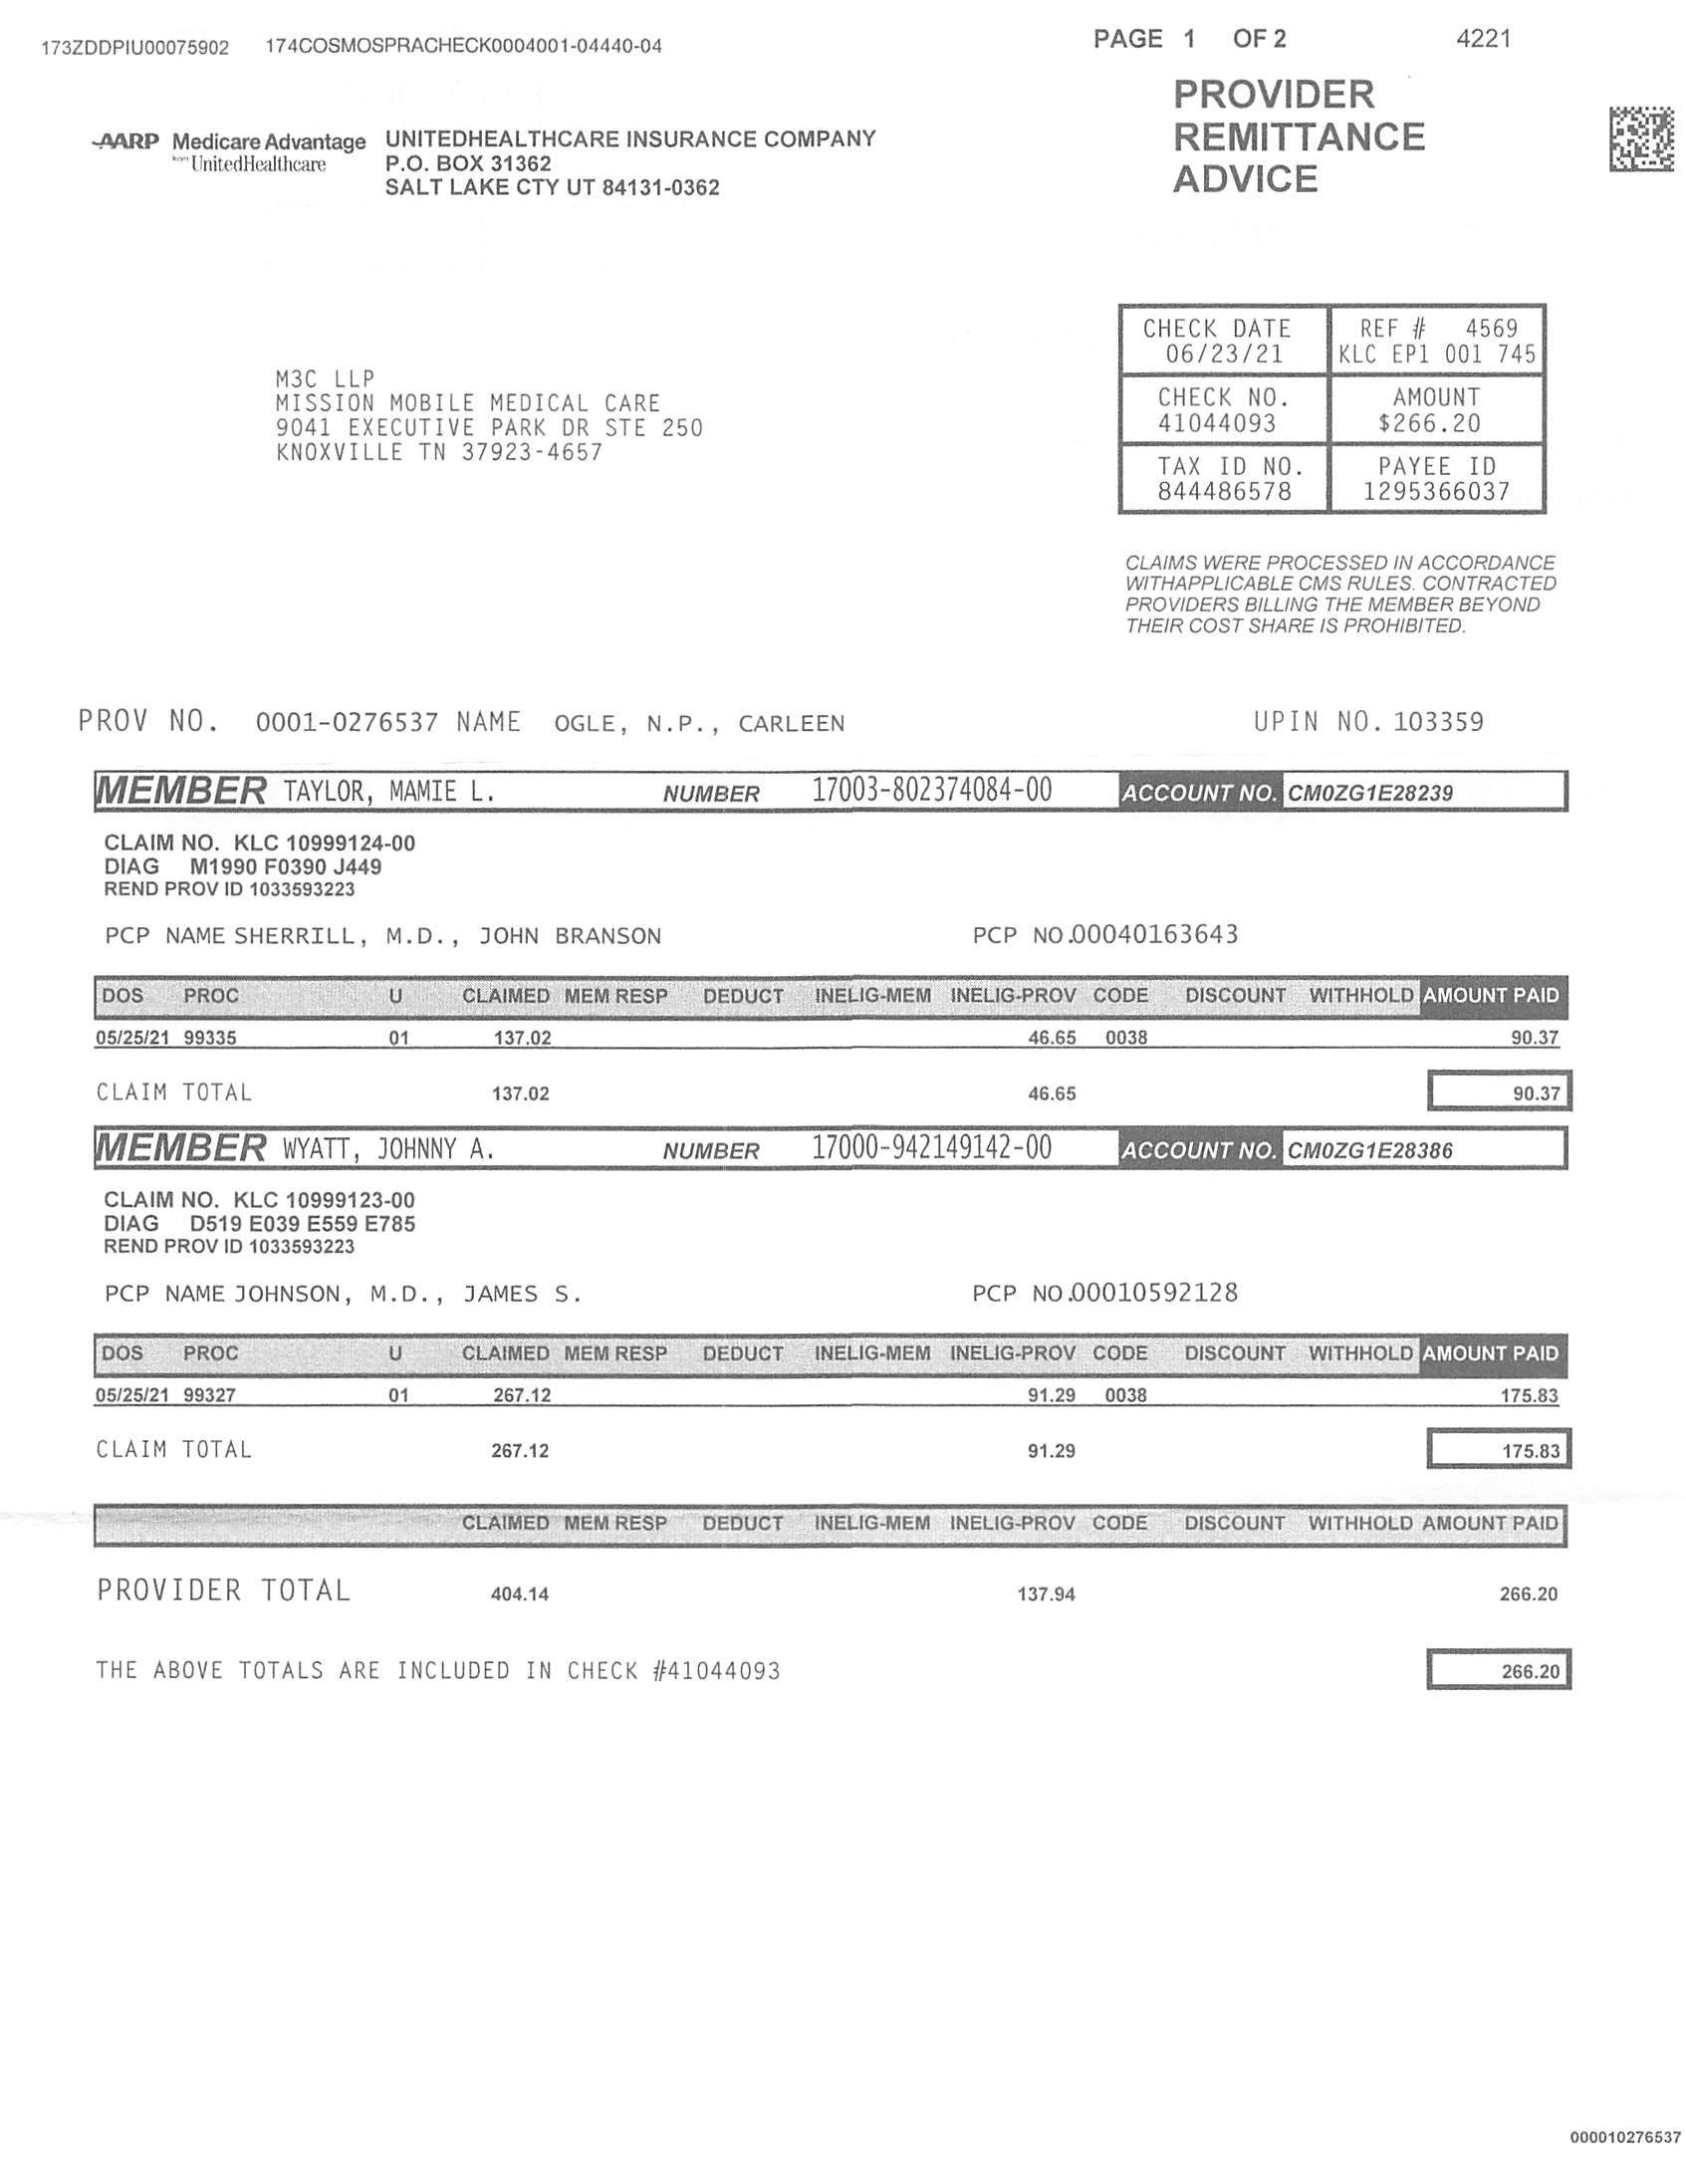data: (87, 831, 441, 925), (97, 1171, 430, 1270)
table: (74, 1477, 1576, 1631), (85, 1314, 1590, 1422), (74, 960, 1583, 1066), (85, 1111, 1583, 1185), (1102, 283, 1564, 524), (80, 756, 1580, 820)
